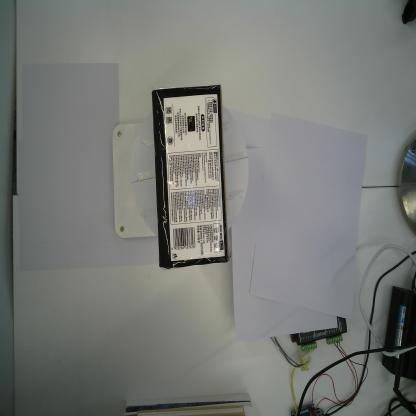Tissue: (152, 84, 230, 270)
